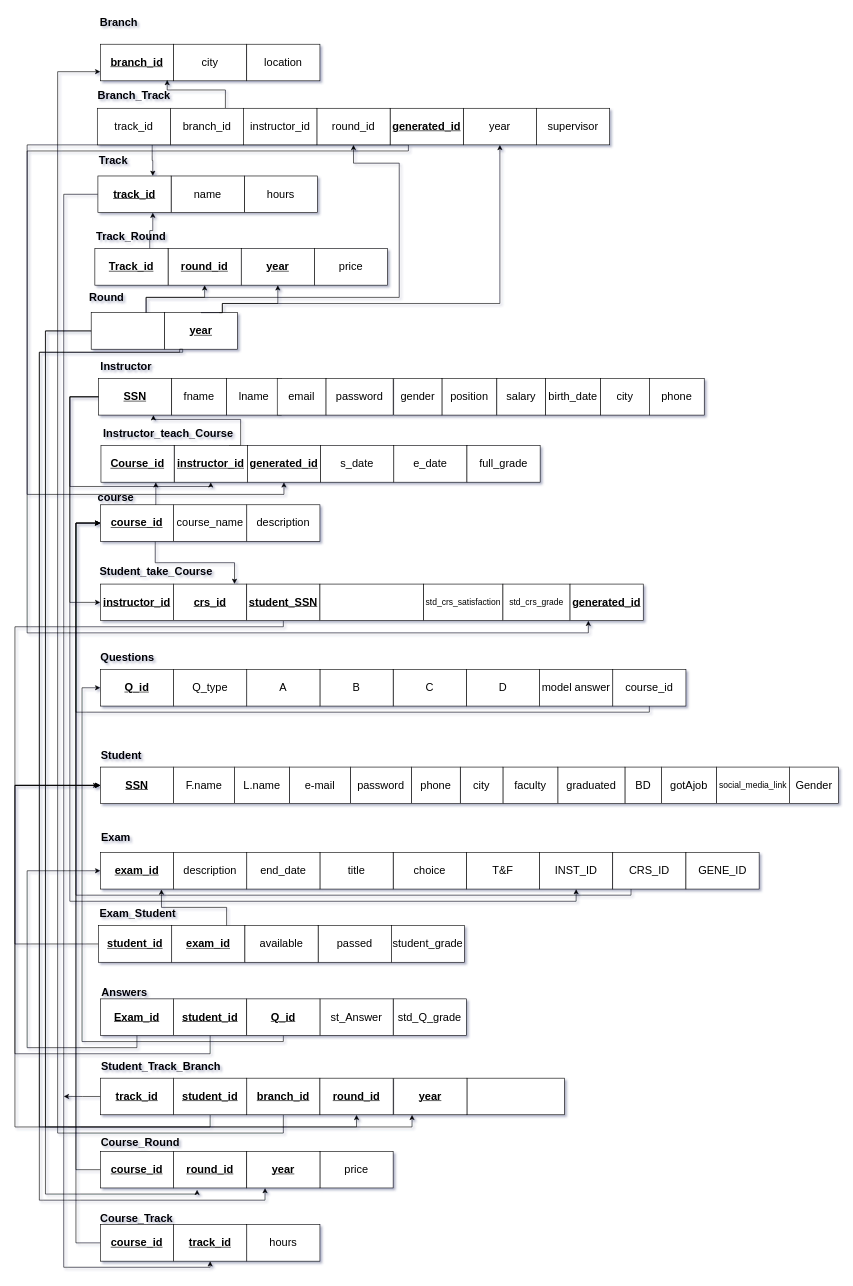
This 853x1286 diagram has some shape labels left out. The centre of each missing label's shape, as x and y in pixels:
round_no: pixel 127 330
std_branch_satisfaction: pixel 515 1096
std_instructor_satisfaction: pixel 371 602
